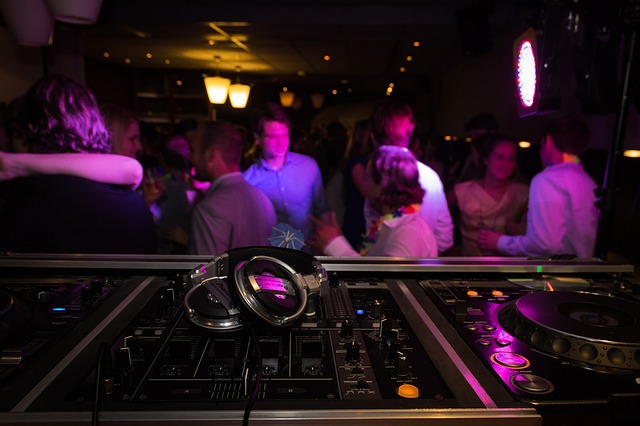headphones: (182, 245, 330, 337)
